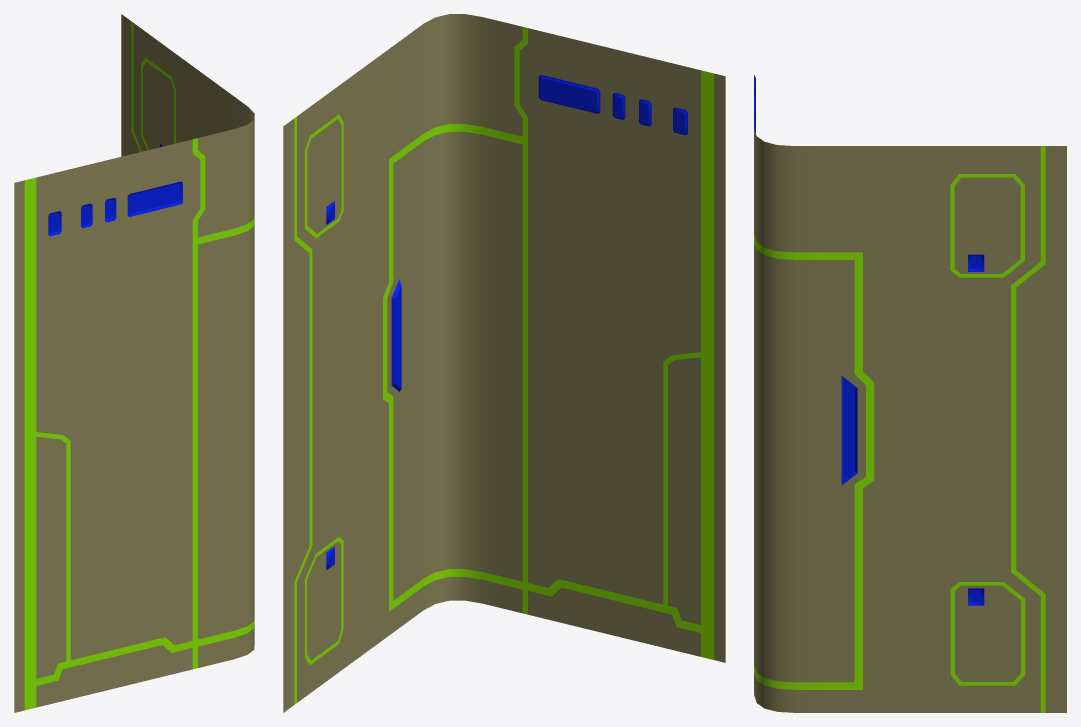
The model's file is Building_Wall_02b_snaps016.fbx.
3 renders of one model, left to right at view 1: azimuth 30°, elevation 25°; view 2: azimuth 150°, elevation 25°; view 3: azimuth 270°, elevation 25°, orthographic. The views are drawn at different scales.
Parts seen in each view (by area): view 1: Building_Wall_02b_snaps016_LOD0; view 2: Building_Wall_02b_snaps016_LOD0; view 3: Building_Wall_02b_snaps016_LOD0.
Part boxes in pixels (left/top/right/bottom): Building_Wall_02b_snaps016_LOD0: left=14, top=14, right=254, bottom=712; Building_Wall_02b_snaps016_LOD0: left=283, top=14, right=725, bottom=712; Building_Wall_02b_snaps016_LOD0: left=754, top=75, right=1066, bottom=712.
Size of what is drawn, in the model's own units: 3 by 6 by 3.
